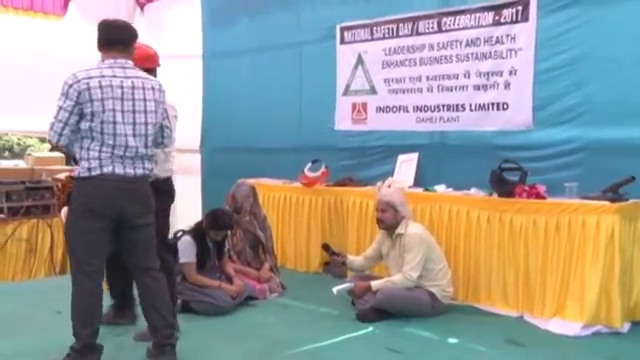helmet: (130, 41, 161, 71)
helmet_off: (368, 187, 412, 236), (94, 21, 138, 66), (230, 187, 266, 232), (197, 210, 233, 251)
person: (53, 0, 176, 356), (323, 186, 454, 326), (162, 206, 255, 319), (217, 184, 284, 301)
